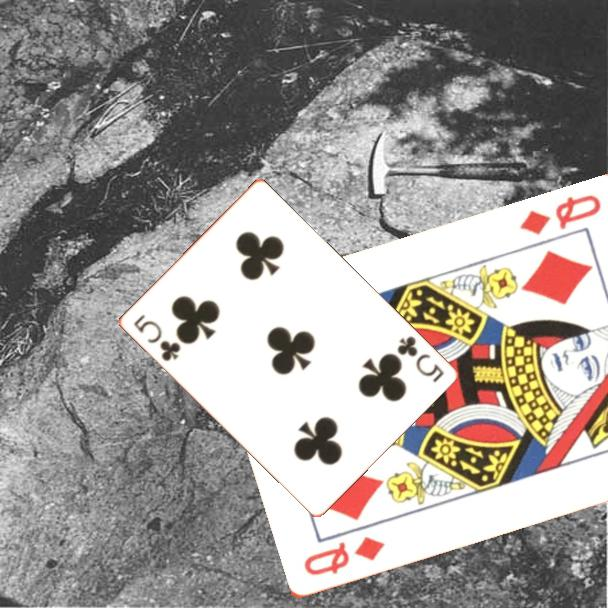c05: (129, 311, 183, 364), (393, 332, 447, 385)
d12: (515, 192, 604, 239), (300, 533, 388, 579)
